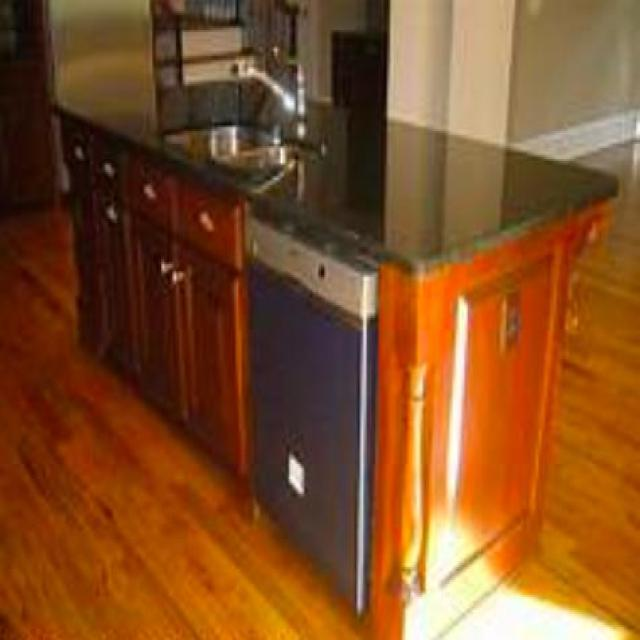dishwasher: (246, 204, 374, 616)
